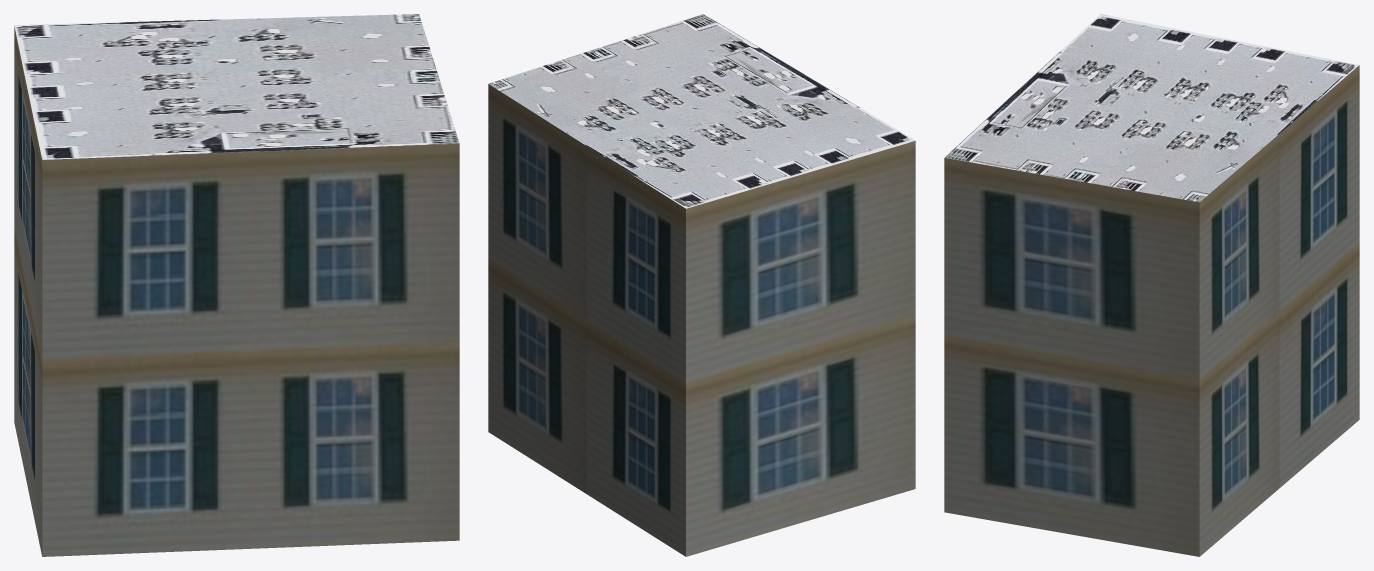
The model's file is ResTex__2667.fbx.
The picture shows the model from 3 angles, left to right: view 1: azimuth 30°, elevation 25°; view 2: azimuth 150°, elevation 25°; view 3: azimuth 270°, elevation 25°; orthographic projection. The views are drawn at different scales.
Parts seen in each view (by area): view 1: CityEngineMaterial_7_m, CityEngineMaterial_4_m; view 2: CityEngineMaterial_7_m, CityEngineMaterial_4_m; view 3: CityEngineMaterial_7_m, CityEngineMaterial_4_m.
Part boxes in pixels (<box>): CityEngineMaterial_7_m: <box>14,26,459,556</box>; CityEngineMaterial_4_m: <box>14,14,459,159</box>; CityEngineMaterial_7_m: <box>488,84,915,556</box>; CityEngineMaterial_4_m: <box>488,14,915,208</box>; CityEngineMaterial_7_m: <box>944,65,1359,556</box>; CityEngineMaterial_4_m: <box>944,14,1359,202</box>.
Bounding box in the file's own units: 6.84 × 6 × 6.37.
Materials: 2 (2 with a texture image).
